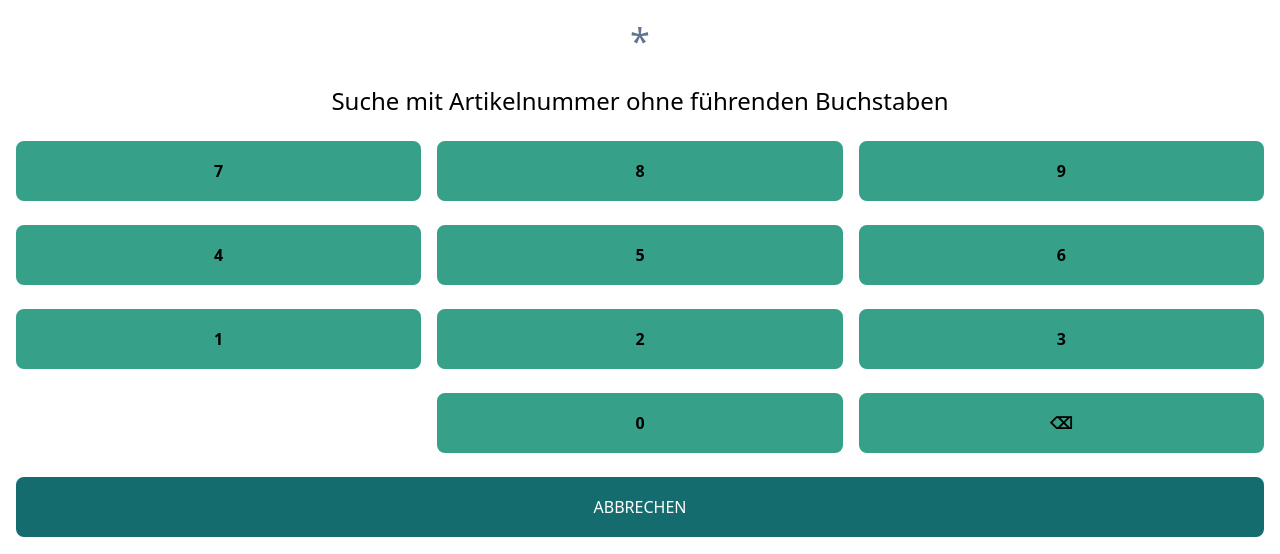
Test: SearchPad › adds button value at the end when number button is clicked
Click the button "1" at point(219, 339), box [16, 309, 421, 369]
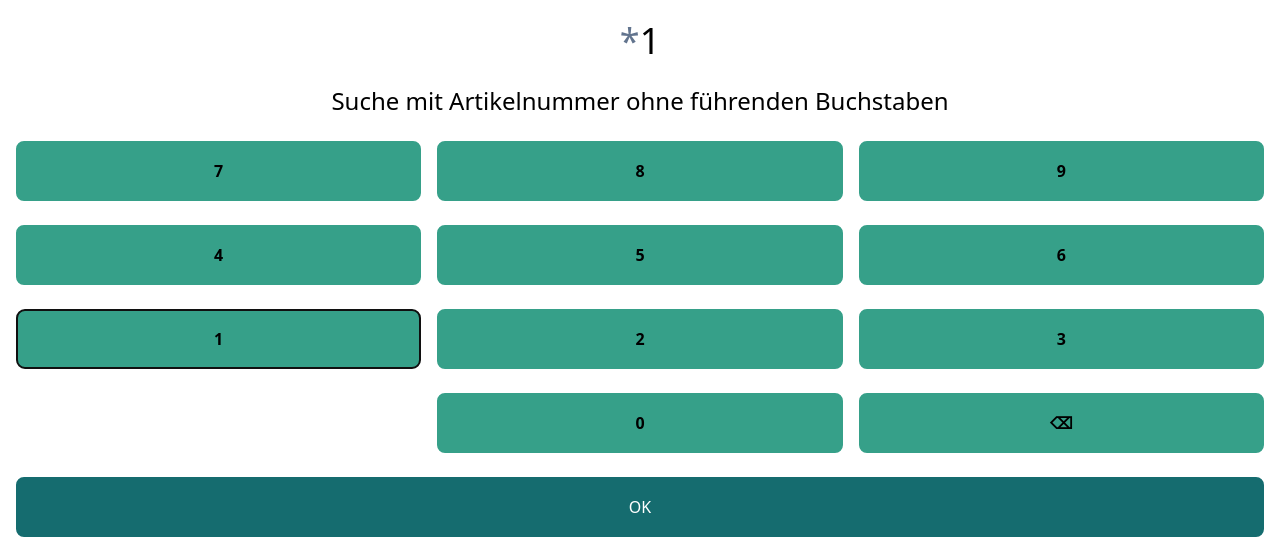
Click the button "1" at point(219, 339), box [16, 309, 421, 369]
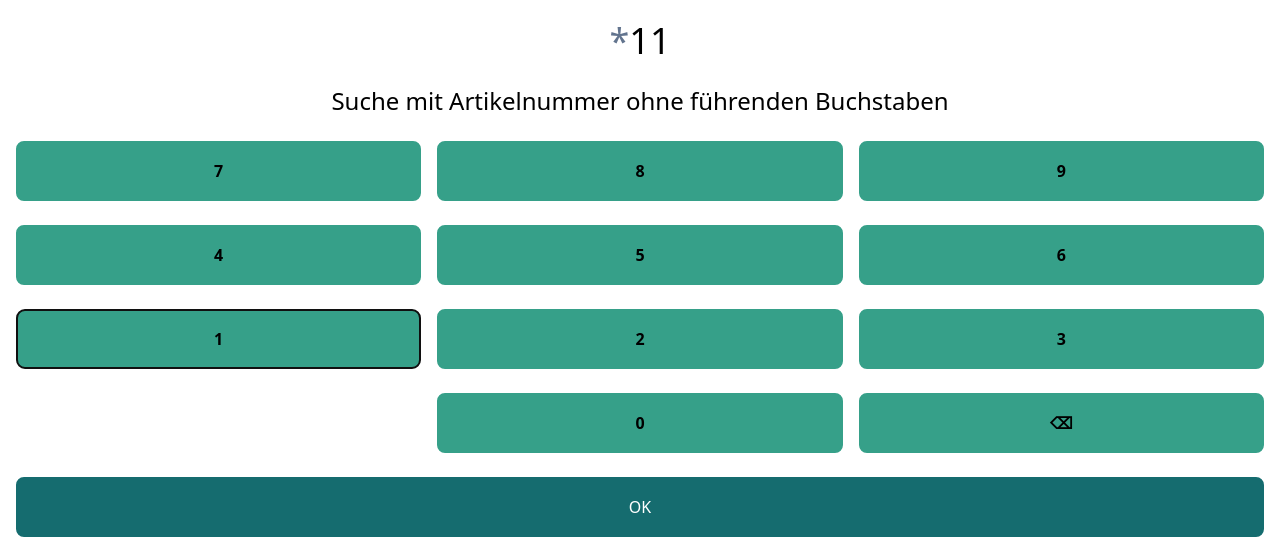
Check: the text "11" is shown, box [629, 16, 670, 65]
